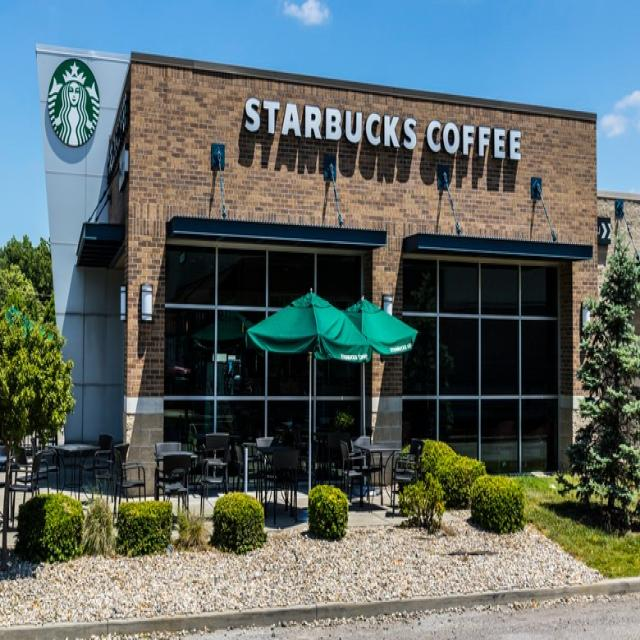starbucks: (234, 92, 524, 172), (44, 50, 101, 155)
